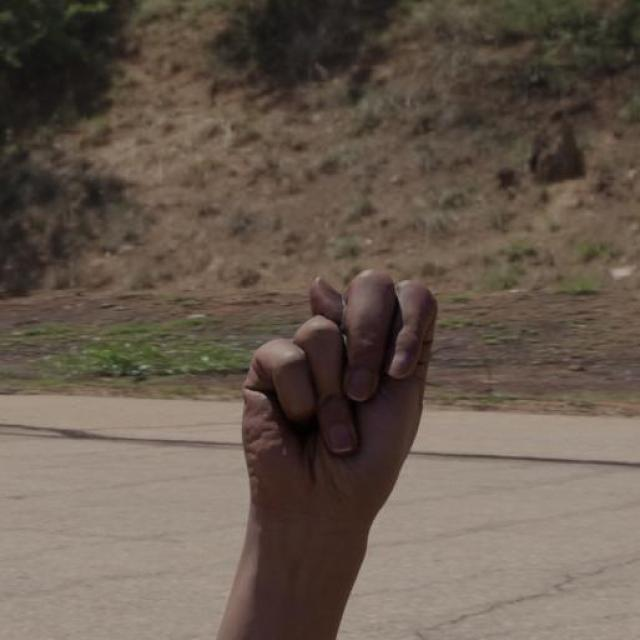N: (240, 266, 441, 528)
